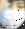with_mask: (1, 1, 25, 29)
